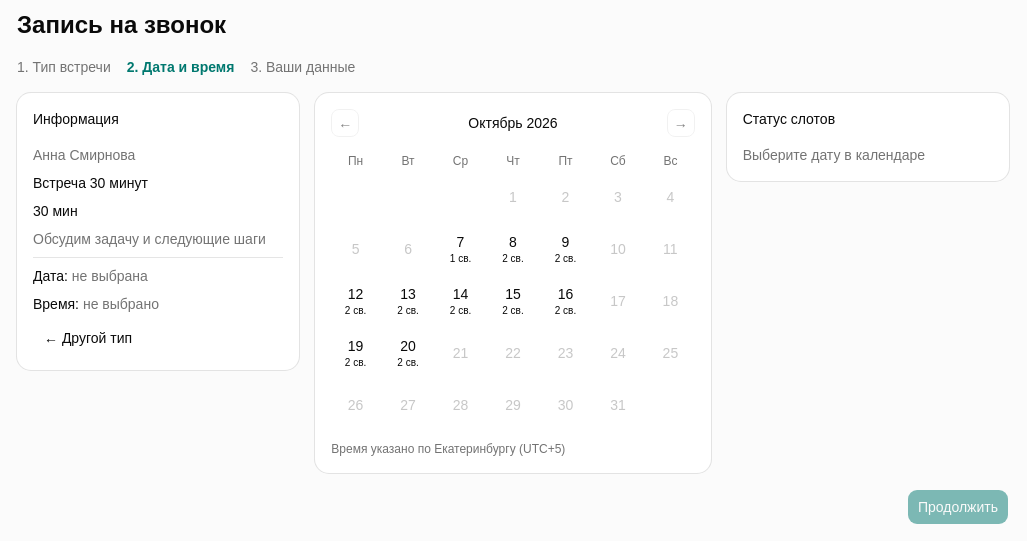
колонка «Статус слотов» › интервалы — в поясе Owner независимо от пояса jsdom
Click the button "7 1 св.".
click(461, 249)  # box [436, 225, 485, 273]
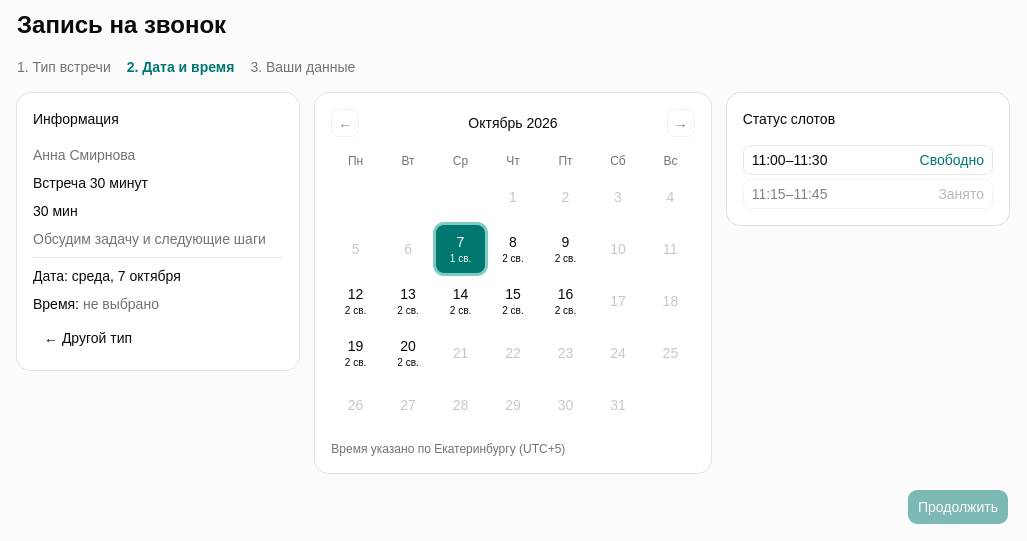
Click the button "11:00–11:30 Свободно".
click(868, 160)  # box [743, 145, 993, 175]
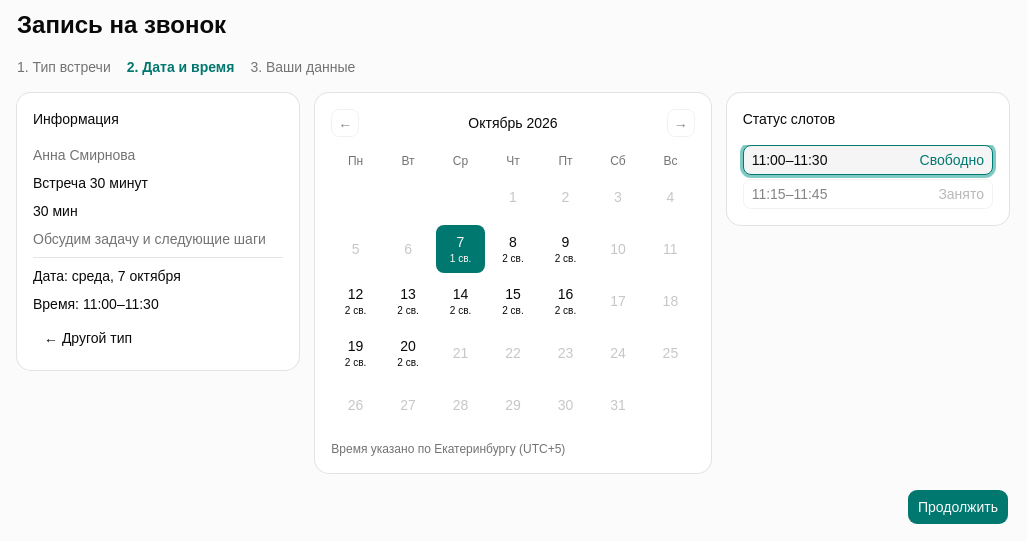
Expected: the element "Информация" shows "Время: 11:00–11:30", [17, 93, 299, 370]
